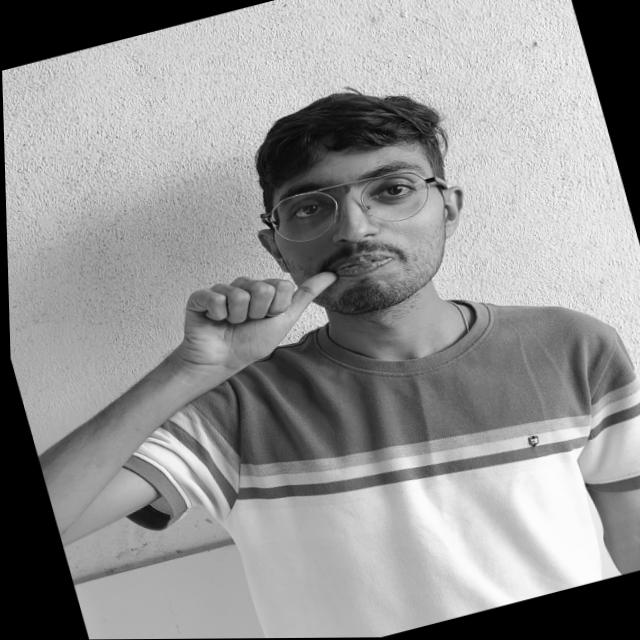Drink: (147, 237, 364, 396)
